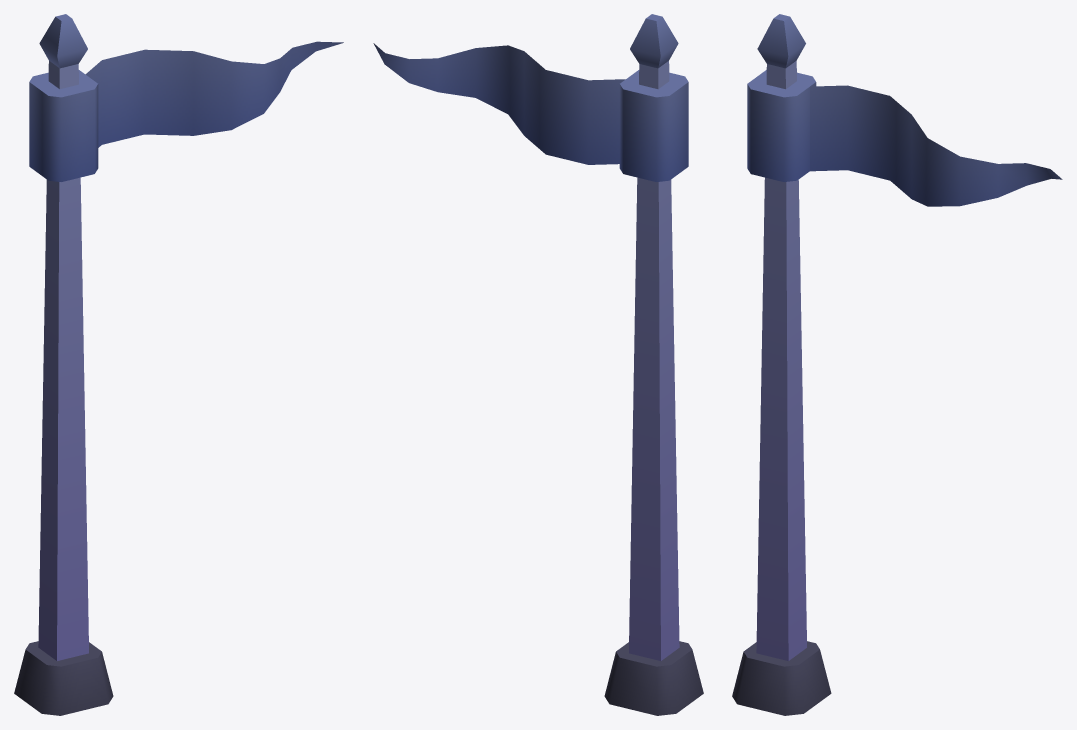
The model's file is flag-high-pennant.fbx.
3 views of the same model, side by side, from view 1: azimuth 30°, elevation 25°; view 2: azimuth 150°, elevation 25°; view 3: azimuth 330°, elevation 25° (orthographic).
Visible parts, largest first — view 1: flag-high-pennant; view 2: flag-high-pennant; view 3: flag-high-pennant.
Part boxes in pixels (box(x1,y1,x2,y2)): flag-high-pennant: box(14, 14, 343, 715); flag-high-pennant: box(373, 14, 703, 715); flag-high-pennant: box(732, 14, 1062, 715).
Bounding box in the file's own units: 176 × 360 × 39.89.
